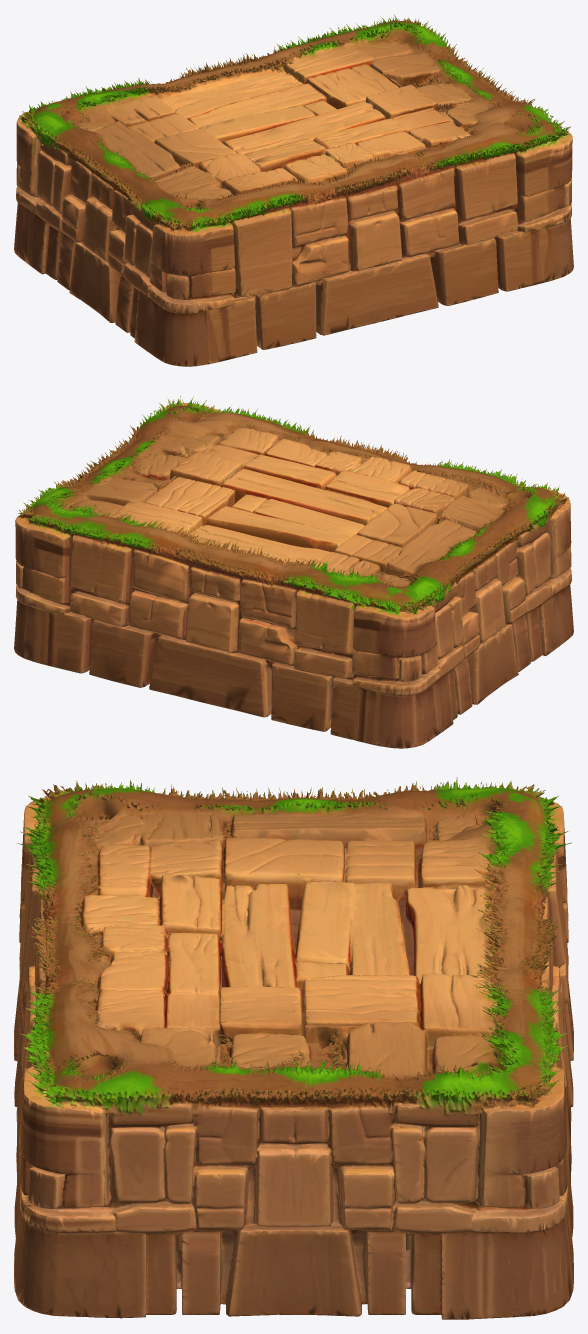
Rendered from floating tile2_final.glb.
The picture shows the model from 3 angles, top to bottom: view 1: azimuth 30°, elevation 25°; view 2: azimuth 150°, elevation 25°; view 3: azimuth 270°, elevation 25°; orthographic projection. The views are drawn at different scales.
Size of the model in its own units: 1.9 by 0.6429 by 1.39.
Materials: 1 (1 with a texture image).
